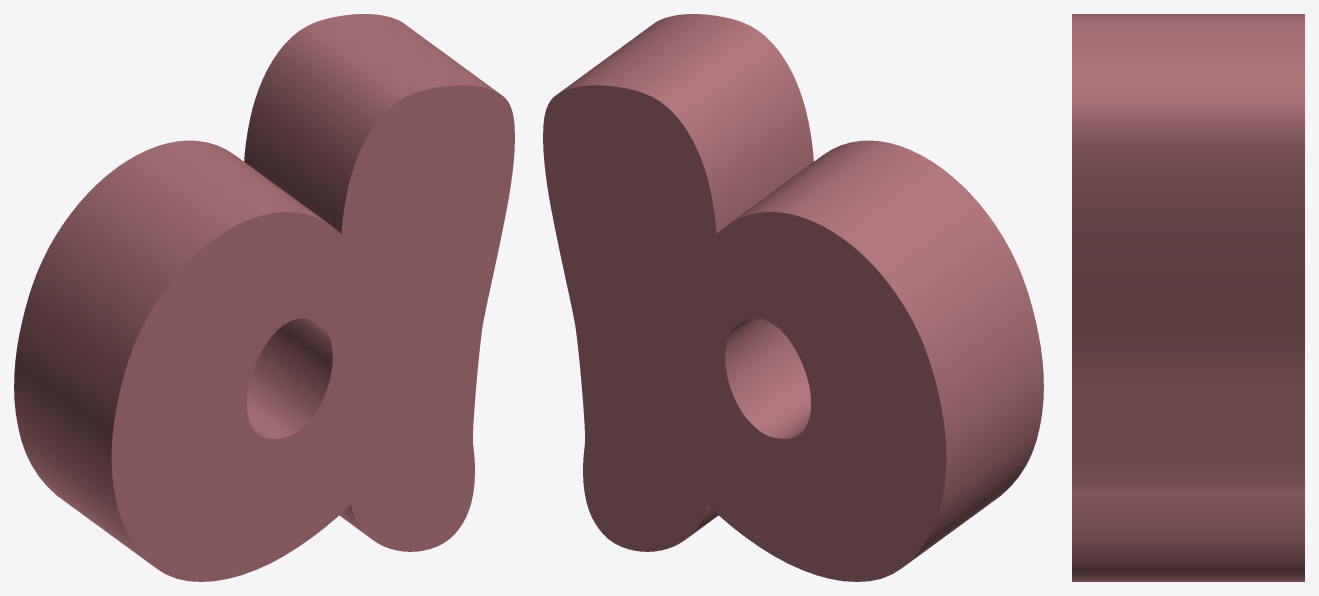
File: small-d.fbx
The picture shows the model from 3 angles, left to right: view 1: azimuth 30°, elevation 25°; view 2: azimuth 150°, elevation 25°; view 3: azimuth 270°, elevation 25°; orthographic projection. The views are drawn at different scales.
Visible parts, largest first — view 1: small_d; view 2: small_d; view 3: small_d.
Part boxes in pixels (<box>): small_d: <box>14,14,514,581</box>; small_d: <box>543,14,1043,581</box>; small_d: <box>1072,14,1304,581</box>.
Bounding box in the file's own units: 5.97 × 6.51 × 2.5.
